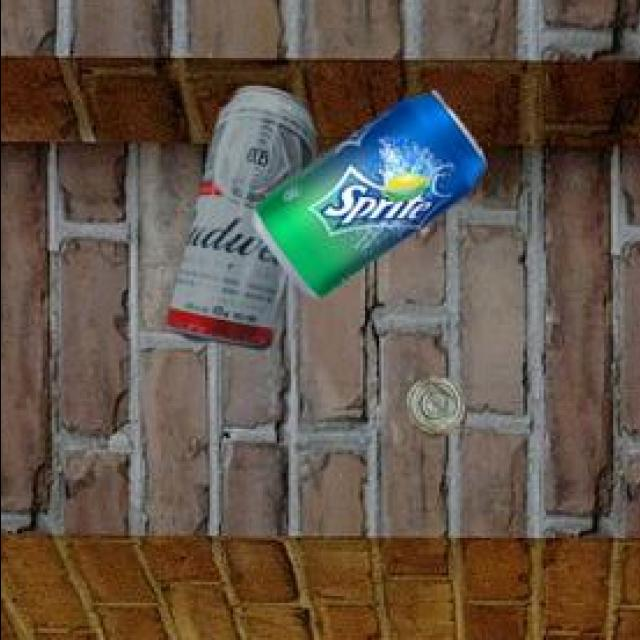logam: (247, 96, 481, 300), (163, 92, 312, 351), (402, 379, 463, 439)
